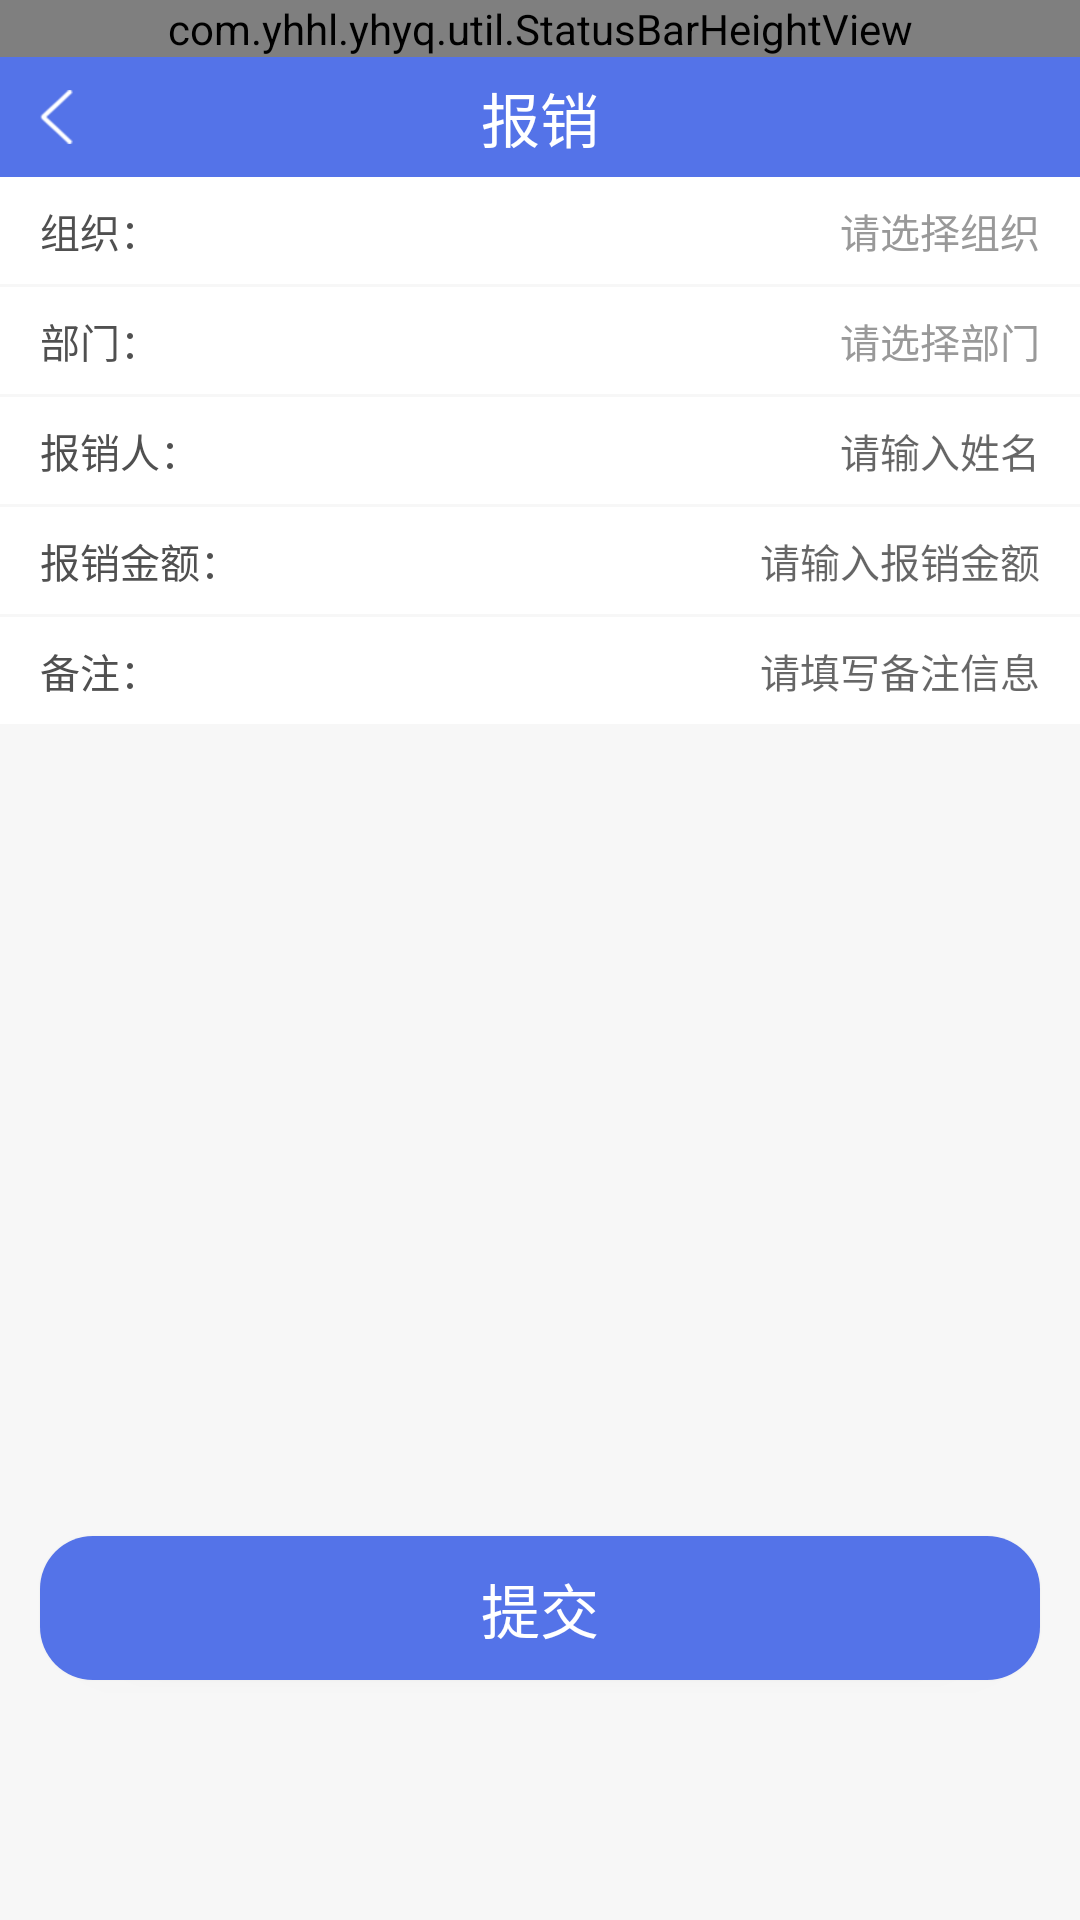

Where icons sit on this 1080*1920 app screen, as (x1, y1, x2, y2):
back: (40, 90, 73, 144)
